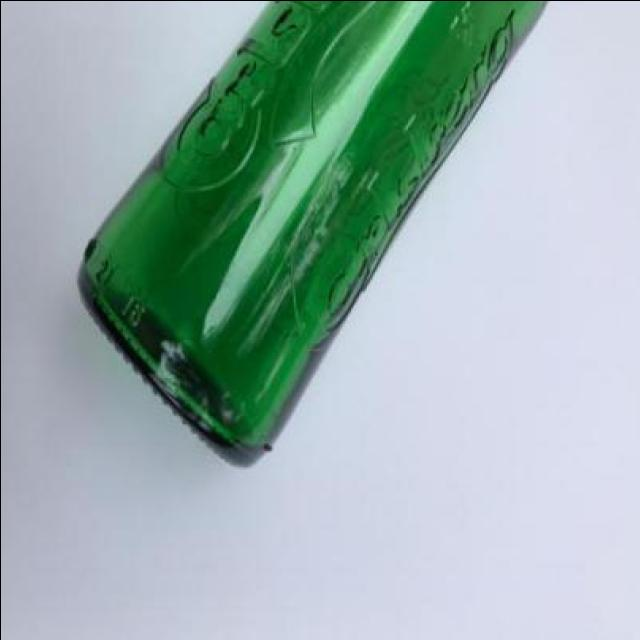kaca: (76, 0, 554, 469)
